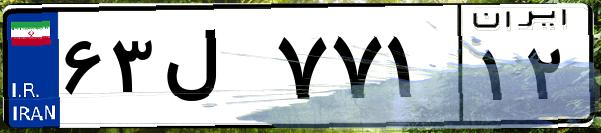1: (385, 28, 445, 110), (475, 38, 525, 113)
2: (525, 38, 570, 115)
3: (110, 28, 158, 98)
6: (57, 26, 110, 100)
7: (270, 28, 330, 110), (330, 28, 385, 110)
ل: (158, 20, 270, 120)
